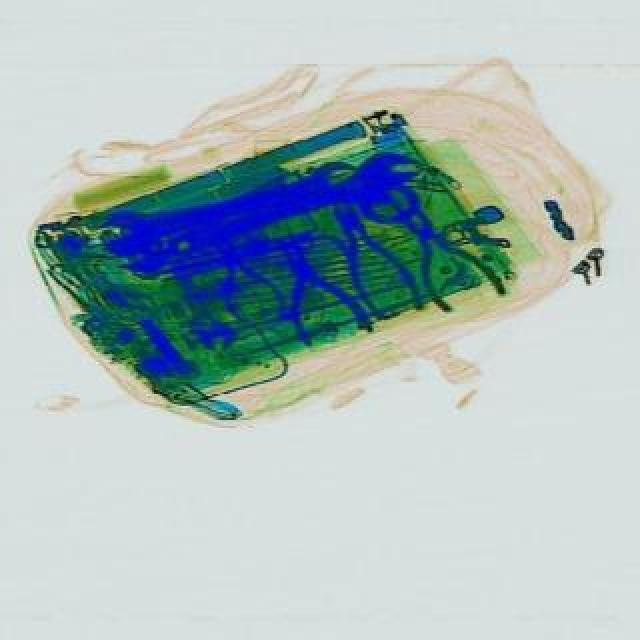scissors: (134, 138, 426, 278), (92, 154, 364, 262), (152, 236, 238, 356)
wrench: (372, 178, 504, 322), (308, 188, 428, 328), (250, 220, 372, 356), (198, 230, 290, 334)
